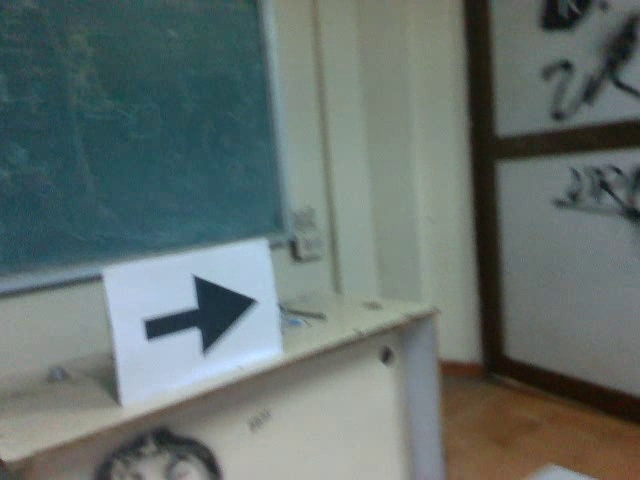Right: (137, 270, 260, 357)
